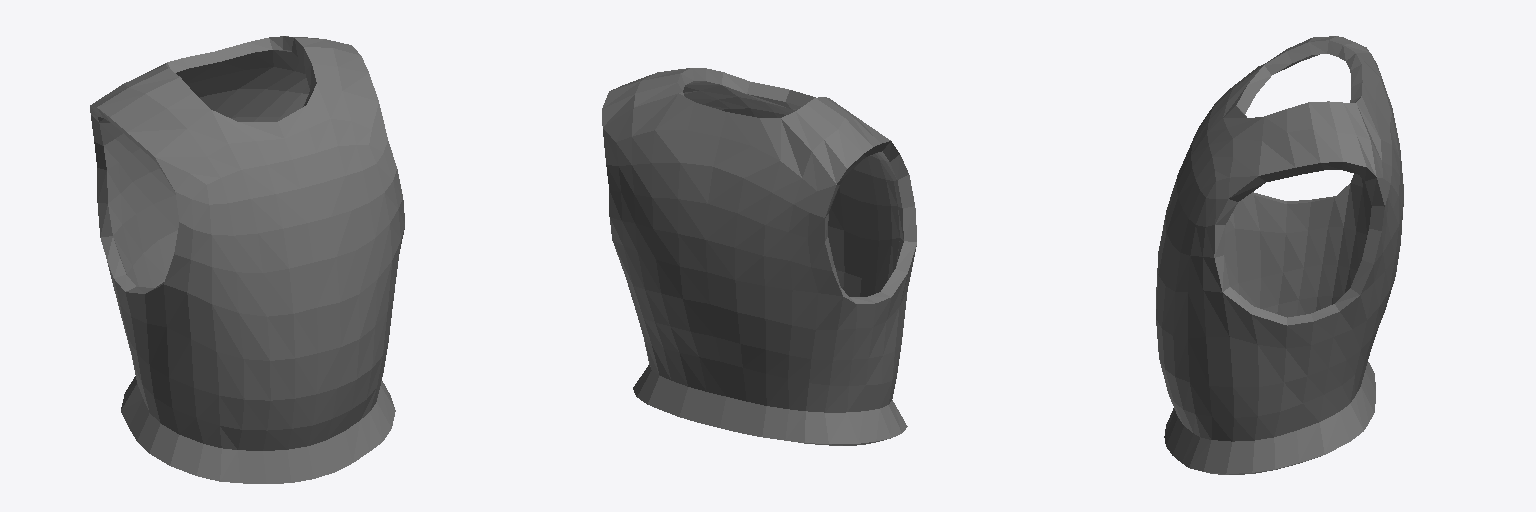
Rendered from LowPoly_Guarda_Peitoral.obj.
The picture shows the model from 3 angles: view 1: azimuth 30°, elevation 25°; view 2: azimuth 150°, elevation 25°; view 3: azimuth 270°, elevation 25°; orthographic projection.
Visible parts, largest first — view 1: LowPoly_Guarda_Peitoral; view 2: LowPoly_Guarda_Peitoral; view 3: LowPoly_Guarda_Peitoral.
Boxes of the visible parts, x1,y1,x2,y2 form: LowPoly_Guarda_Peitoral: [90, 36, 404, 483]; LowPoly_Guarda_Peitoral: [602, 68, 916, 445]; LowPoly_Guarda_Peitoral: [1156, 36, 1403, 474].
Size of the model in its own units: 32.54 by 45.19 by 27.51.